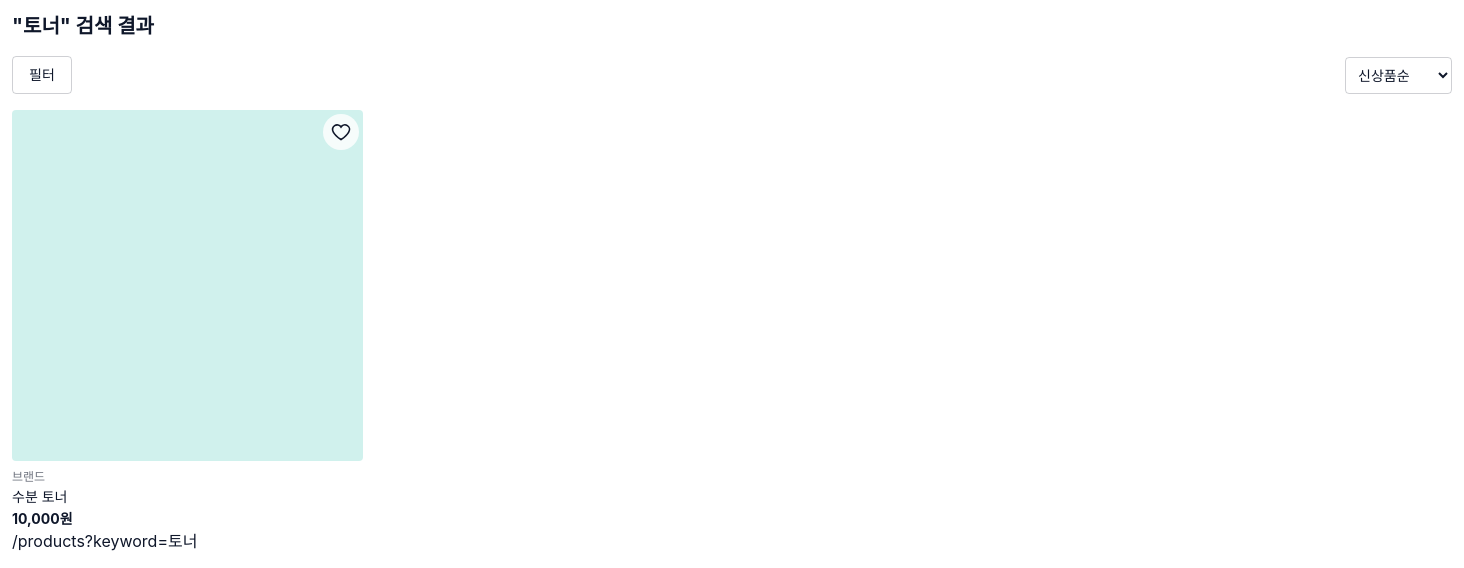
Test case: 정렬을 바꾸면 URL이 바뀌고 처음부터 읽는다
Check: the text "수분 토너" is shown, box [12,488,68,505]
Select "높은 가격순" in the dropdown named "정렬". click: (1398, 75)
box: [1345,56,1452,94]
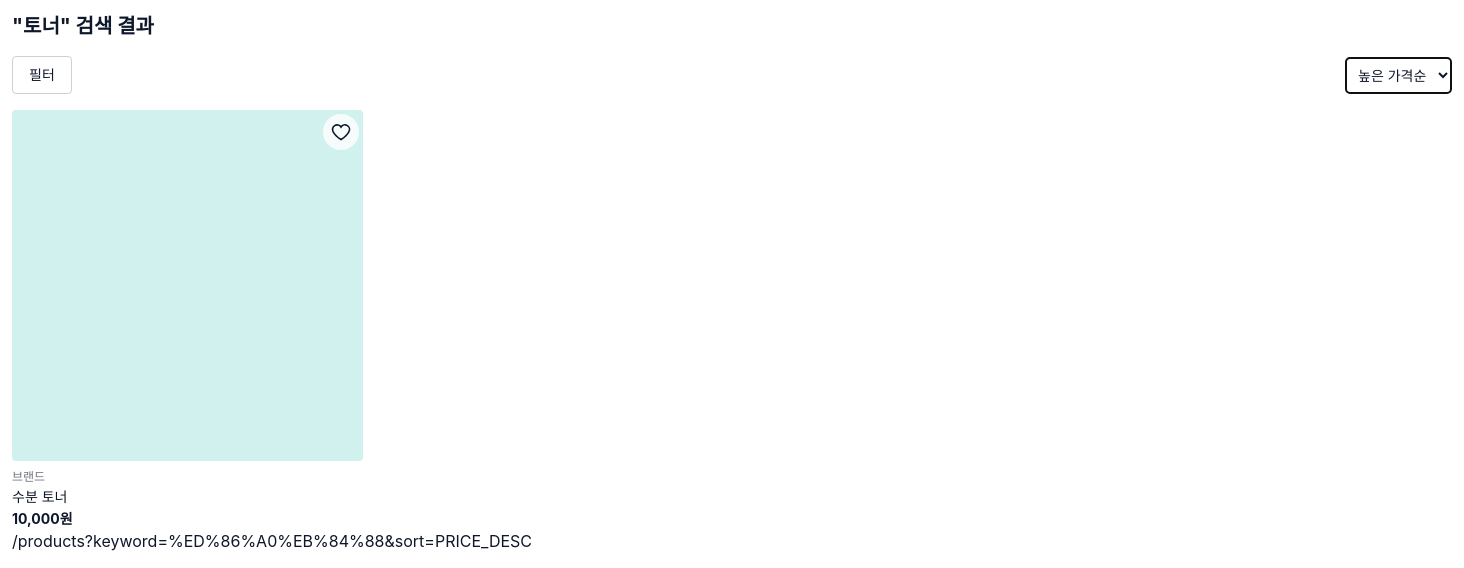
Check: the text with test id "loc" reads "/products?keyword=%ED%86%A0%EB%84%88&sort=PRICE_DESC", box [12,531,532,551]
